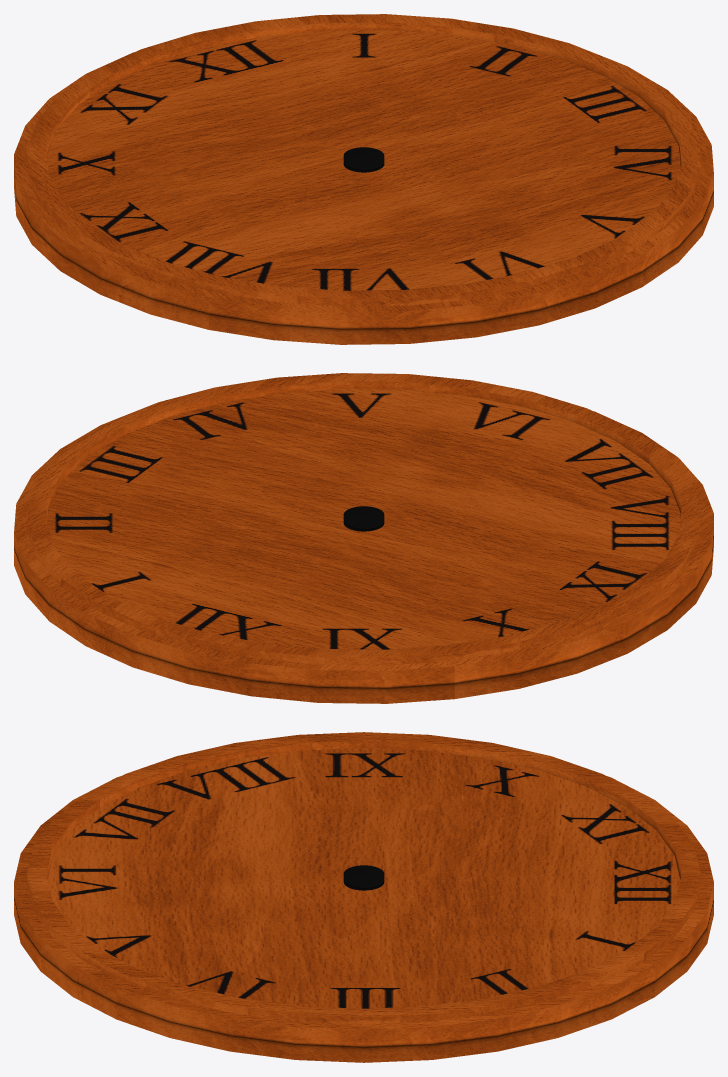
Rendered from mdl_hub_redwoodclock.gltf.
3 views of the same model, one above another, from view 1: azimuth 30°, elevation 25°; view 2: azimuth 150°, elevation 25°; view 3: azimuth 270°, elevation 25° (orthographic).
Visible parts, largest first — view 1: Cylinder; view 2: Cylinder; view 3: Cylinder.
Boxes of the visible parts, x1,y1,x2,y2 form: Cylinder: (14, 14, 713, 344); Cylinder: (14, 373, 713, 703); Cylinder: (14, 732, 713, 1062).
Size of the model in its own units: 0.4136 by 0.0267 by 0.4136.
Materials: 3 (2 with a texture image).
